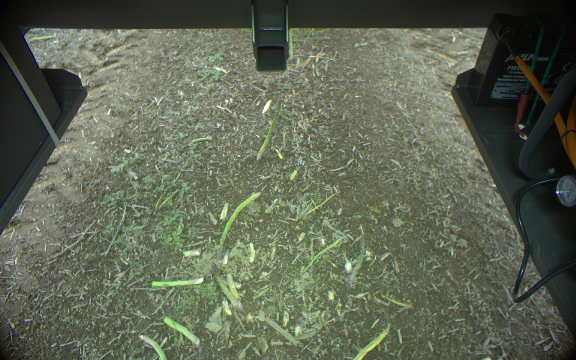aspa: (217, 191, 263, 249), (208, 265, 245, 316), (255, 100, 283, 162), (344, 236, 378, 285), (302, 234, 344, 273), (345, 330, 393, 360), (163, 315, 201, 345), (148, 278, 205, 289), (139, 335, 164, 360), (224, 269, 245, 298)
